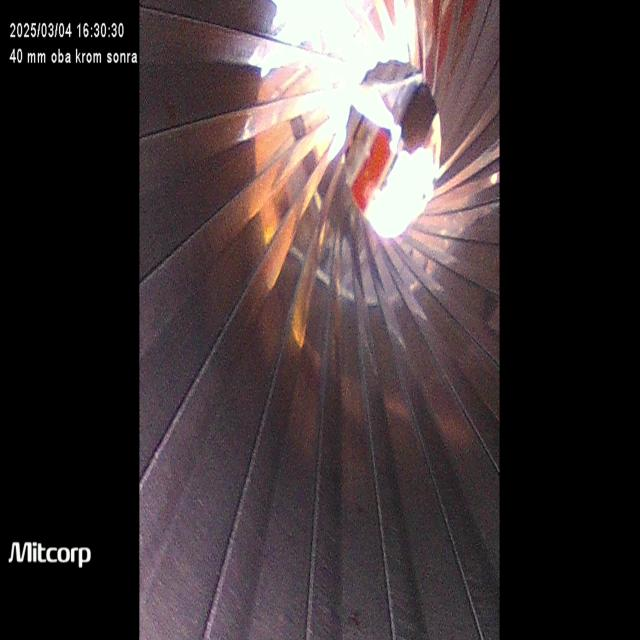hata_4.2: (350, 485, 375, 549), (339, 600, 378, 640)
